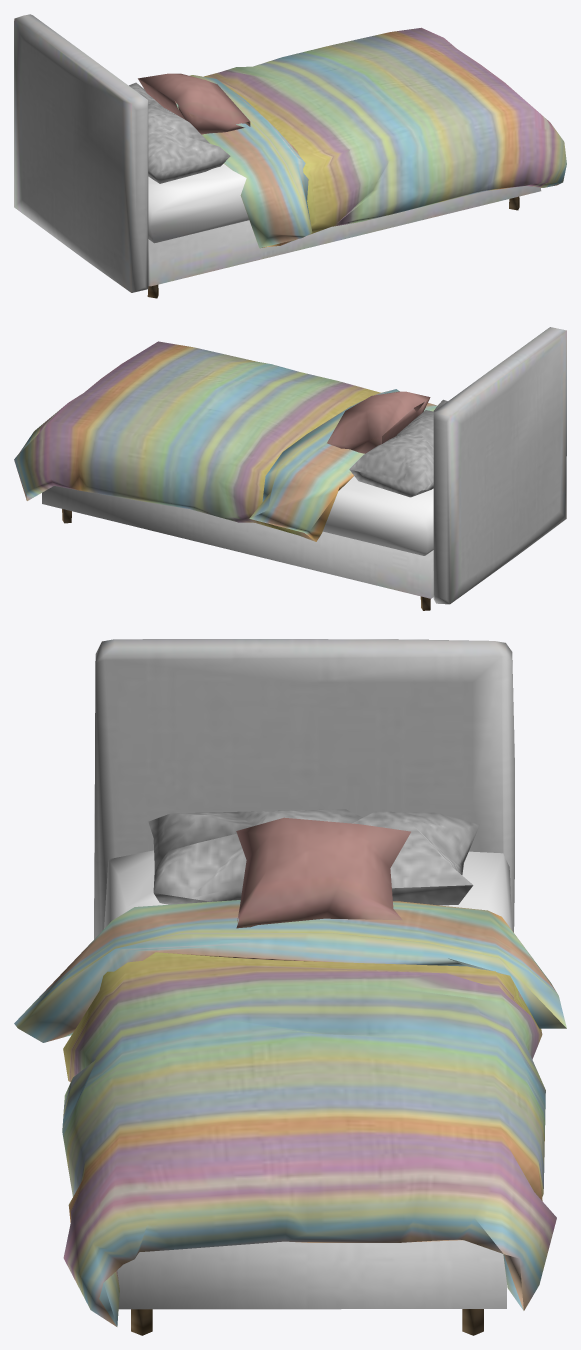
File: Bed0011.obj
The picture shows the model from 3 angles, top to bottom: view 1: azimuth 30°, elevation 25°; view 2: azimuth 150°, elevation 25°; view 3: azimuth 270°, elevation 25°; orthographic projection. The views are drawn at different scales.
Size of the model in its own units: 2.01 by 0.936 by 1.28.
Materials: 1 (1 with a texture image).
